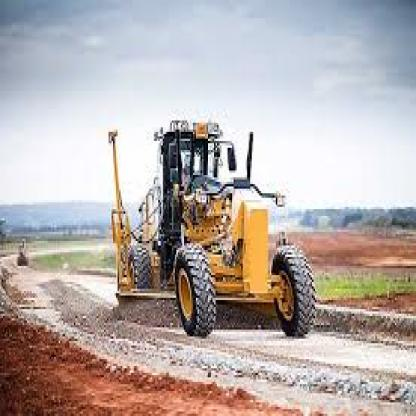bull_dozer/loader/grader: (93, 106, 318, 354)
